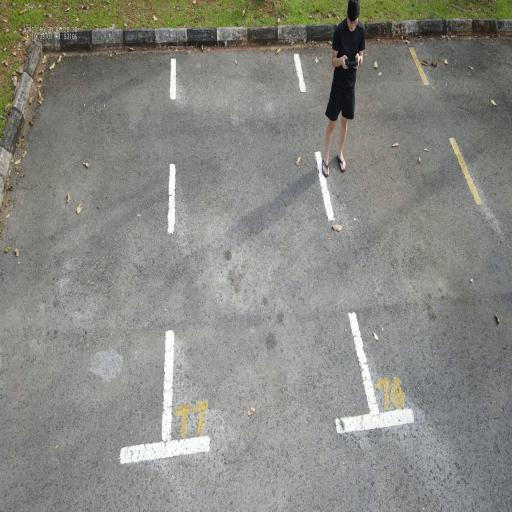Empty: (160, 35, 386, 465)
